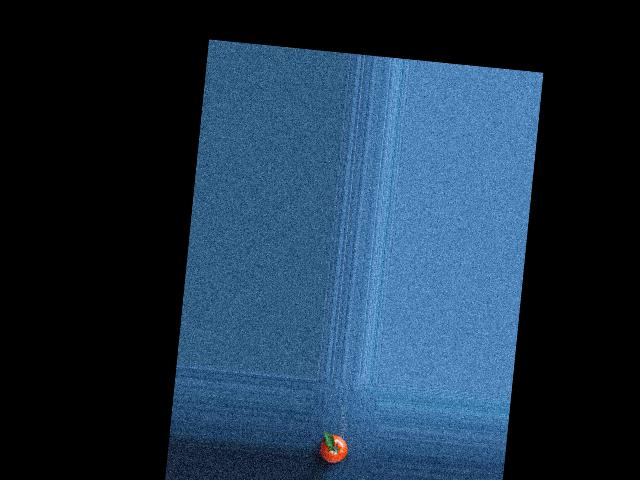tomato: (319, 433, 348, 464)
